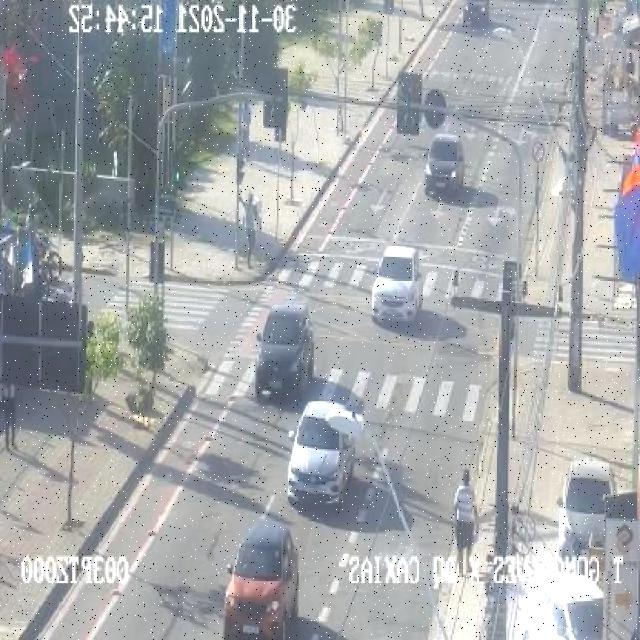Car: (224, 516, 301, 639), (286, 398, 364, 505), (507, 568, 604, 638), (253, 301, 316, 402), (558, 459, 615, 555), (372, 246, 424, 325), (425, 134, 465, 193)
